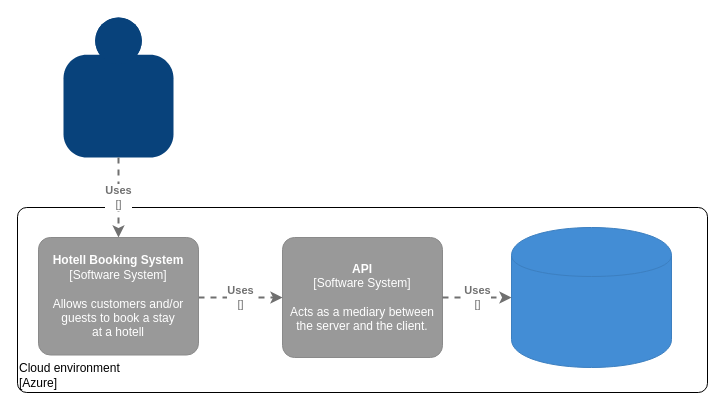
This 725x410 diagram has some shape labels left out. Here are the shapes that lost their labels. From the top down, the box of each, then its label:
(63, 17, 173, 157): Hotel Guest [Person] A person using the hotel booking or rating system
(510, 226, 672, 368): Database [Container: Technology] Stores information about bookings and guests.
